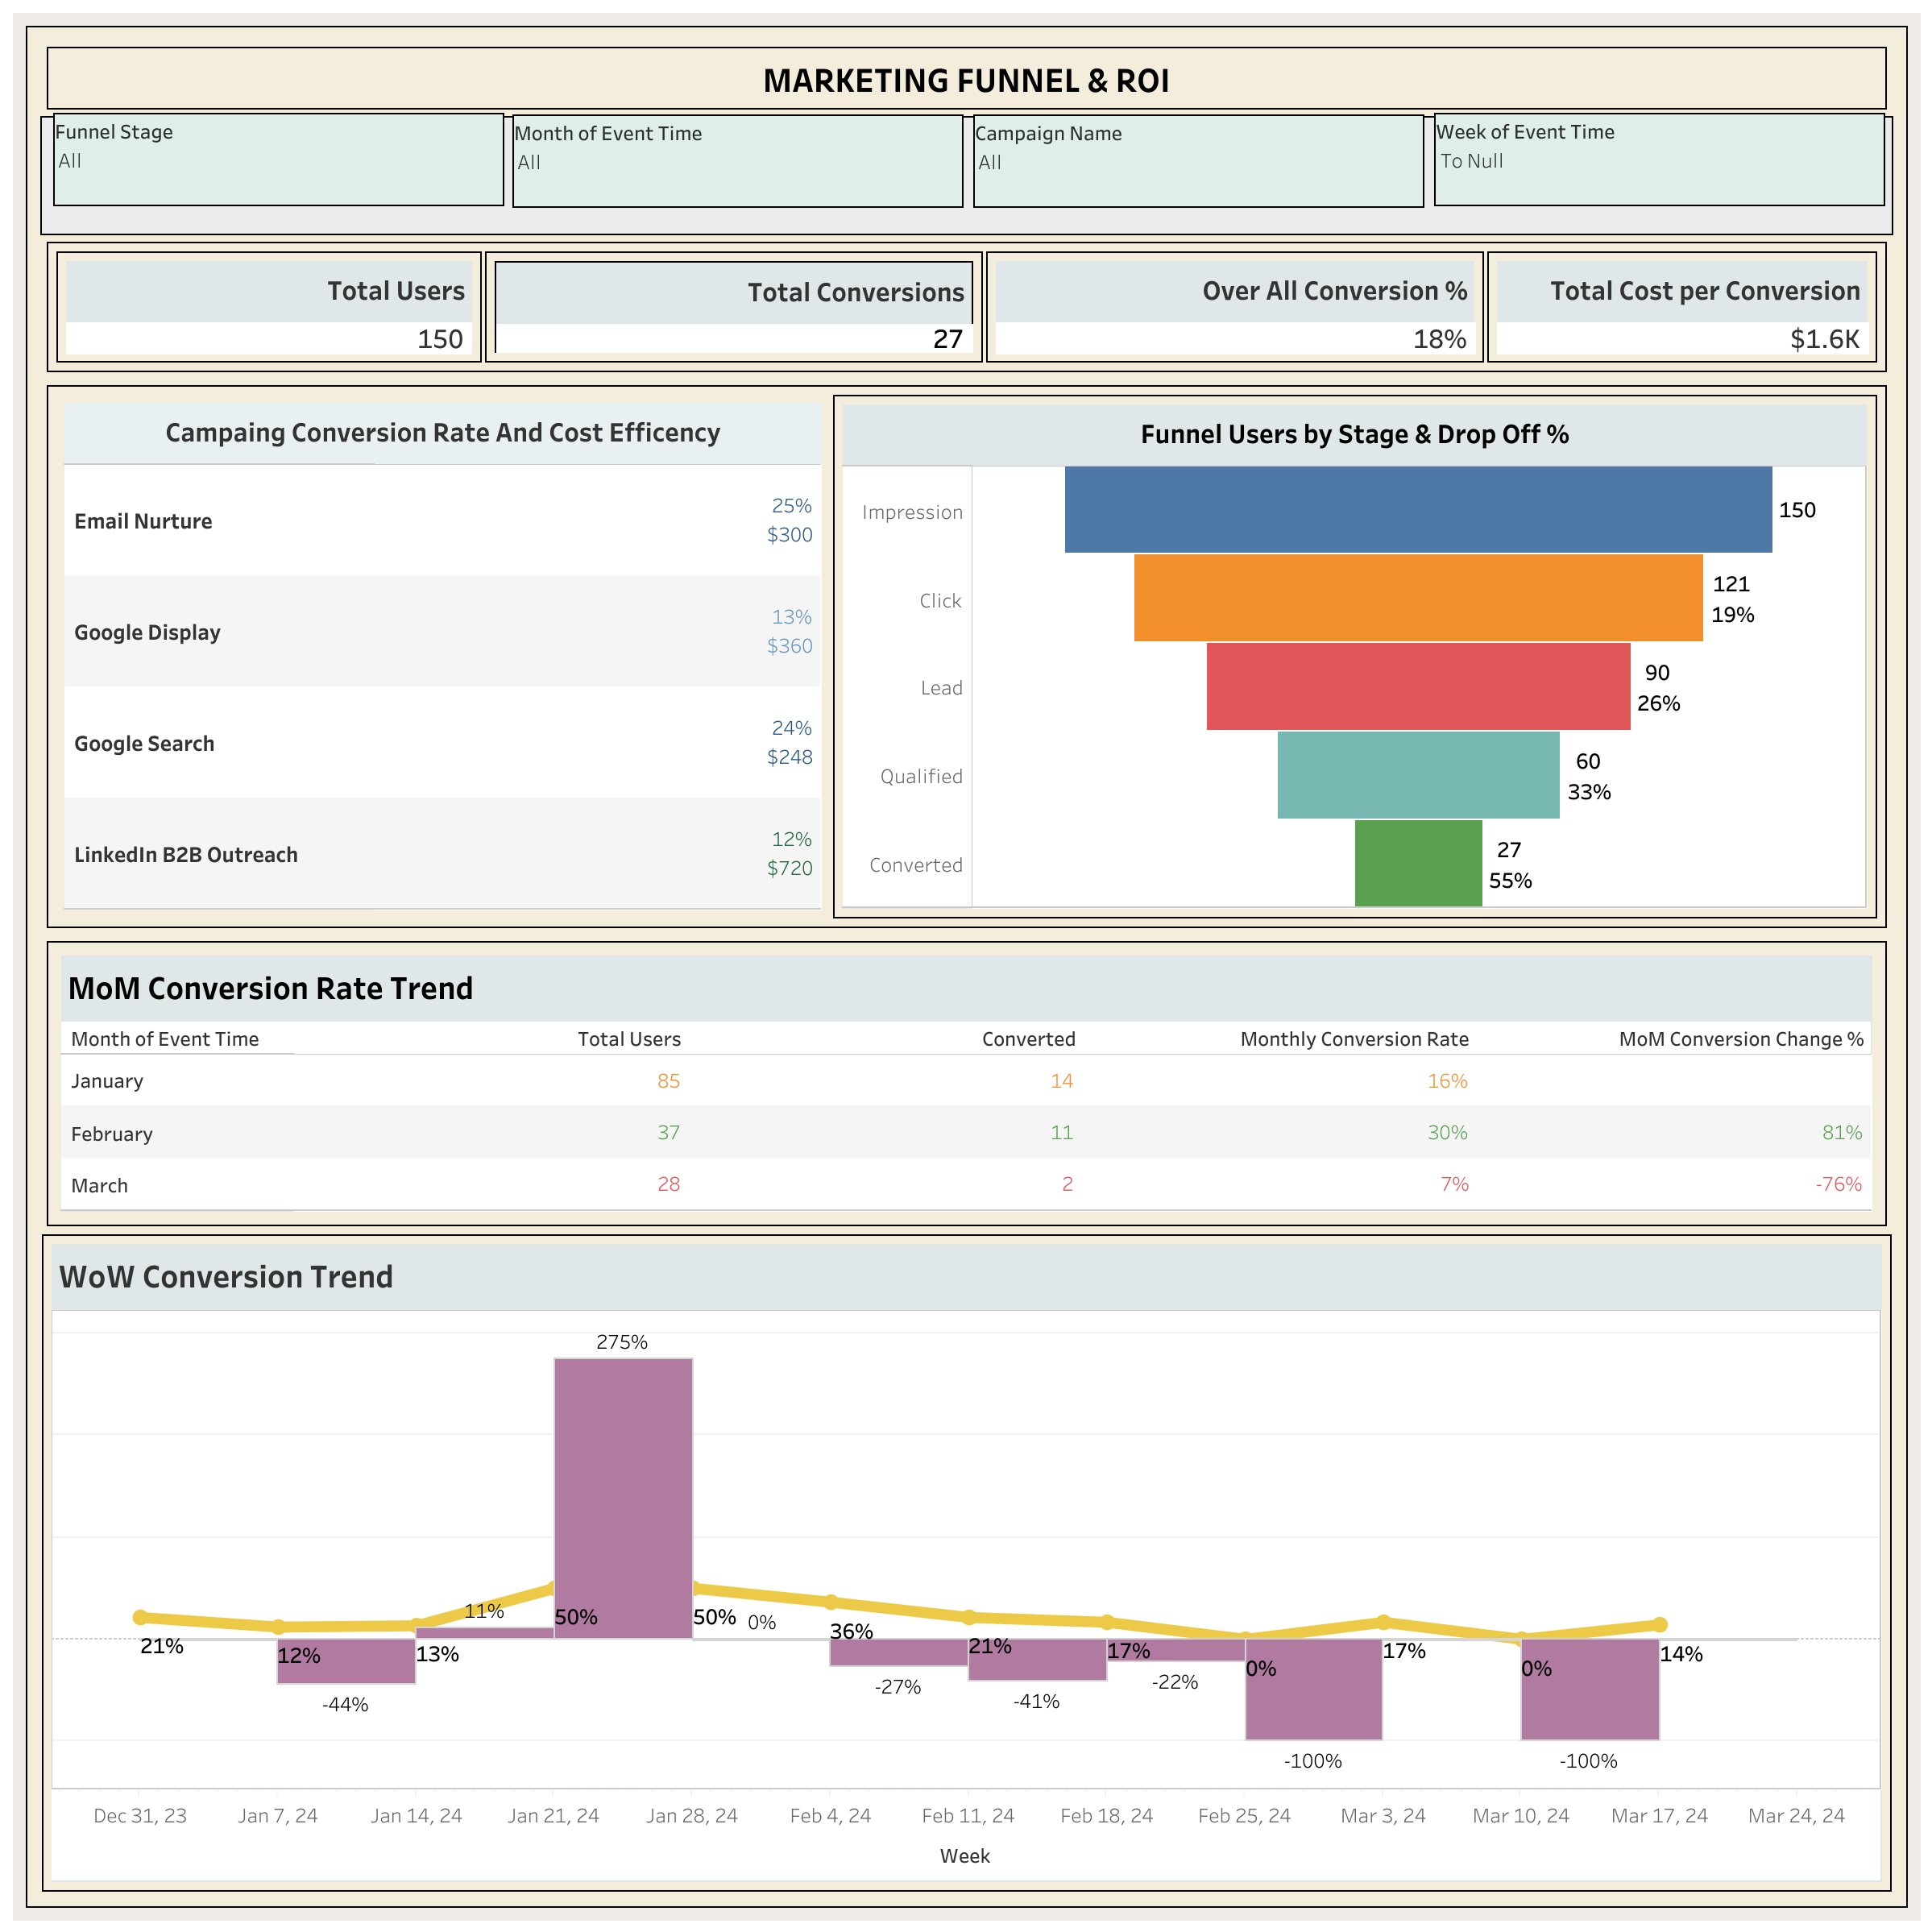

Layout of this report page (visuals, bound fields, positions):
{"tool":"tableau","page":{"name":"Dashboard 1","canvas":[1200,1200],"ordinal":0},"visuals":[{"type":"text","box":[34,34,1132,29]},{"type":"filter","title":"Funnel Users by Stage","param":"[federated.174q1kb0zhbg8b12k5px91m5i2do].[none:Pivot Field Names:nk]","box":[33,70,280,58]},{"type":"filter","title":"WoW","param":"[federated.174q1kb0zhbg8b12k5px91m5i2do].[twk:event_time:qk]","box":[890,70,280,58]},{"type":"filter","title":"MoM","param":"[federated.174q1kb0zhbg8b12k5px91m5i2do].[mn:event_time:ok]","box":[318,71,280,58]},{"type":"filter","title":"Campaign Con Rate","param":"[federated.174q1kb0zhbg8b12k5px91m5i2do].[none:Calculation_1402255166742546:nk]","box":[604,71,280,58]},{"type":"worksheet","title":"Tot Users","mark":"Automatic","box":[37,158,260,65.1]},{"type":"worksheet","title":"Tot Conv","mark":"Automatic","box":[303,158,305,65.1]},{"type":"worksheet","title":"Conv %","mark":"Automatic","box":[614,158,305,65.1]},{"type":"worksheet","title":"Tot CPC","mark":"Automatic","box":[925,158,238,65.1]},{"type":"worksheet","title":"Campaign Con Rate","mark":"Automatic","rows":["Calculation_1402255166742546"],"box":[36,246,478,323]},{"type":"worksheet","title":"Funnel Users by Stage","mark":"Bar","rows":["Pivot Field Names"],"cols":["Calculation_1402255091462148","Calculation_1402255096725509"],"box":[519,247,644,321]},{"type":"worksheet","title":"MoM","mark":"Automatic","rows":["event_time"],"box":[34,589,1132,167]},{"type":"worksheet","title":"WoW","mark":"Automatic","rows":["Calculation_1402255196839960"],"cols":["event_time"],"box":[28,768,1144,404]}]}

Visuals, with their boxes in screenshot pixels (x1, y1, x2, y2), scaled from the page's 1200x1200 canvas onto the 1932x1932 screenshot:
text: l=55, t=55, r=1877, b=102
"Funnel Users by Stage" filter: l=53, t=113, r=504, b=206
"WoW" filter: l=1433, t=113, r=1884, b=206
"MoM" filter: l=512, t=114, r=963, b=208
"Campaign Con Rate" filter: l=972, t=114, r=1424, b=208
"Tot Users" worksheet: l=60, t=255, r=479, b=359
"Tot Conv" worksheet: l=487, t=255, r=979, b=359
"Conv %" worksheet: l=989, t=255, r=1479, b=359
"Tot CPC" worksheet: l=1489, t=255, r=1872, b=359
"Campaign Con Rate" worksheet: l=58, t=396, r=827, b=916
"Funnel Users by Stage" worksheet (Bar marks): l=835, t=398, r=1872, b=914
"MoM" worksheet: l=55, t=948, r=1877, b=1217
"WoW" worksheet: l=45, t=1237, r=1887, b=1887
